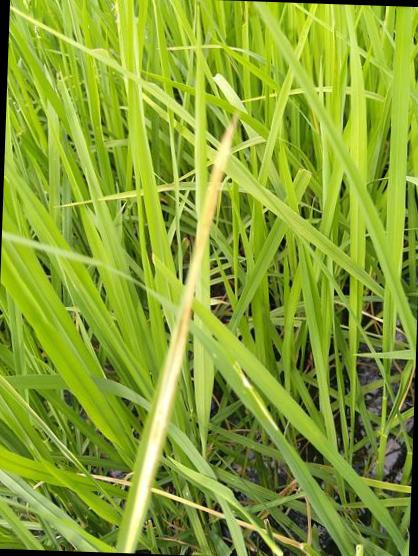Leaf Blight: (114, 113, 238, 554)
